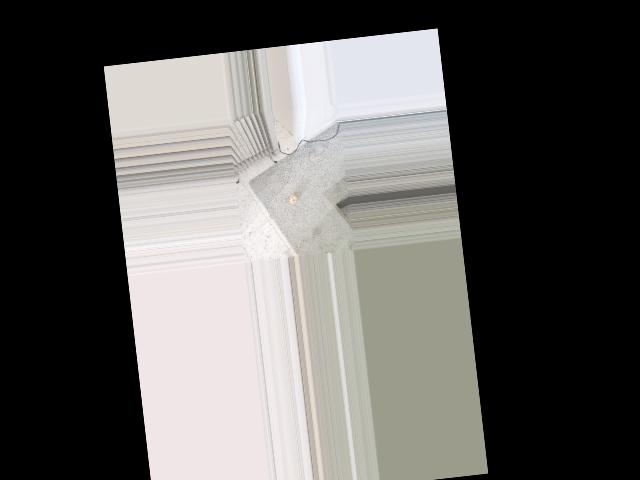onion: (287, 193, 298, 205)
